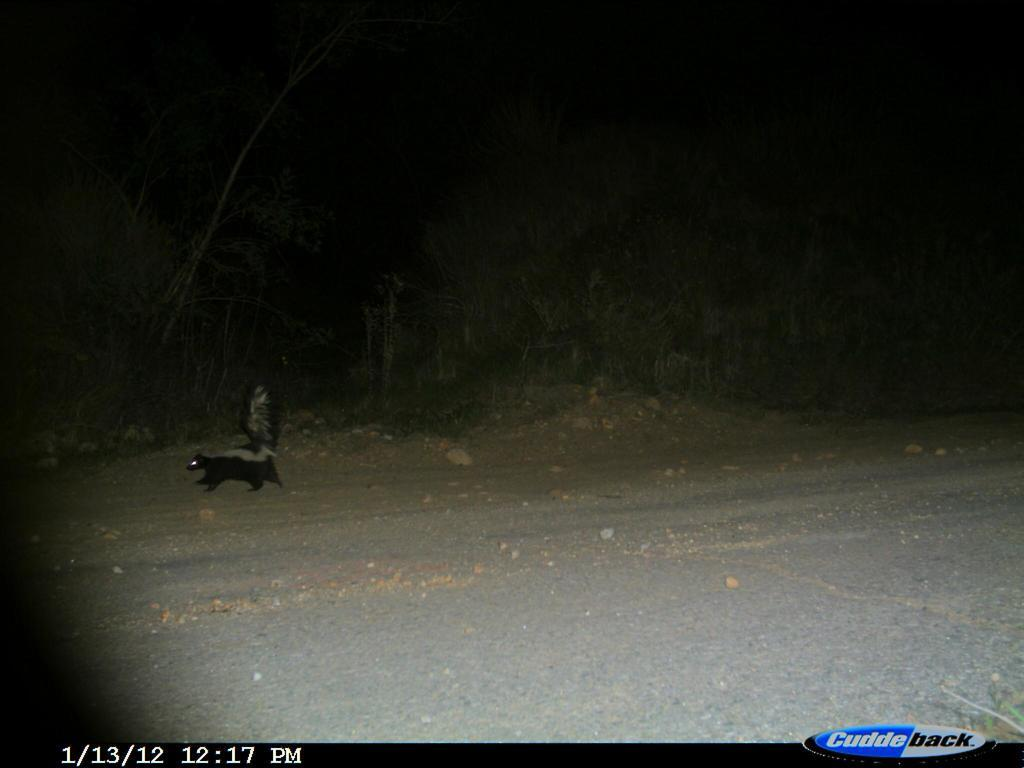skunk: (182, 370, 294, 500)
